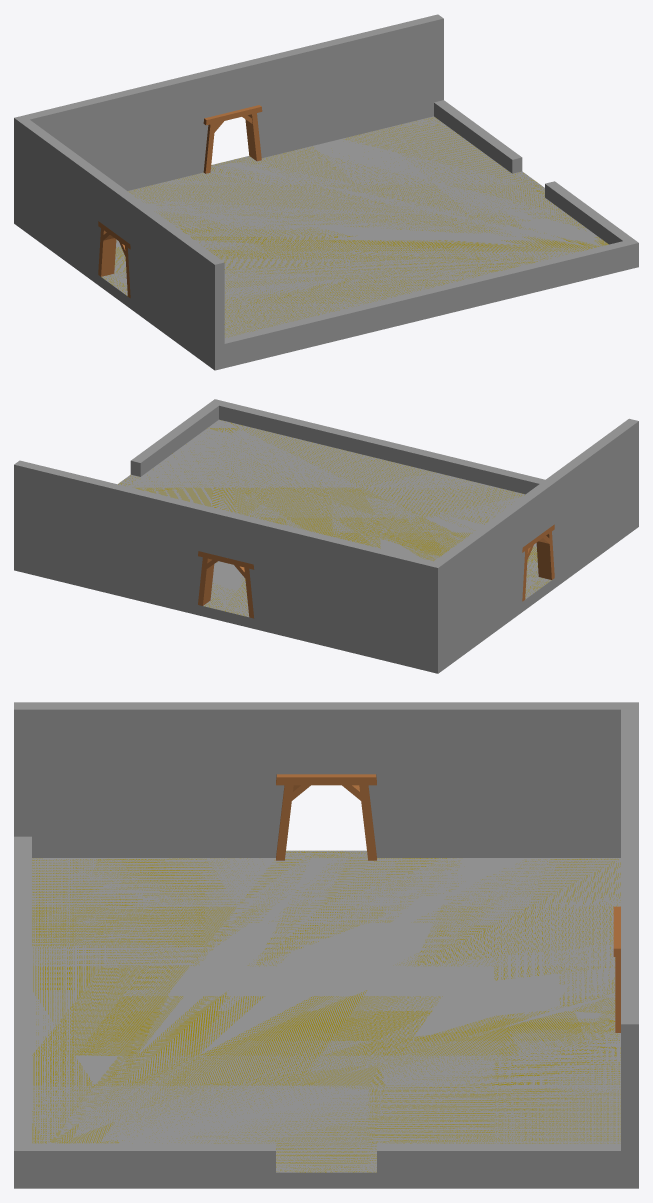
Rendered from salaGrandeDosPuertas.fbx.
3 views of the same model, one above another, from view 1: azimuth 30°, elevation 25°; view 2: azimuth 150°, elevation 25°; view 3: azimuth 270°, elevation 25° (orthographic). The views are drawn at different scales.
Parts seen in each view (by area): view 1: group_1, group_2, group_3, group_0; view 2: group_1, group_2, group_3, group_0; view 3: group_2, group_1, group_0, group_3.
Part boxes in pixels (x1,y1,x2,y2): group_1: (14,14,638,370); group_2: (101,116,608,338); group_3: (203,105,262,173); group_0: (98,221,130,298); group_1: (14,399,638,673); group_2: (118,419,551,617); group_3: (198,551,254,618); group_0: (522,524,554,601); group_2: (32,850,620,1172); group_1: (14,702,638,1188); group_0: (276,774,376,860); group_3: (613,906,620,1032).
Size of the model in its own units: 2560 by 610 by 2100.
